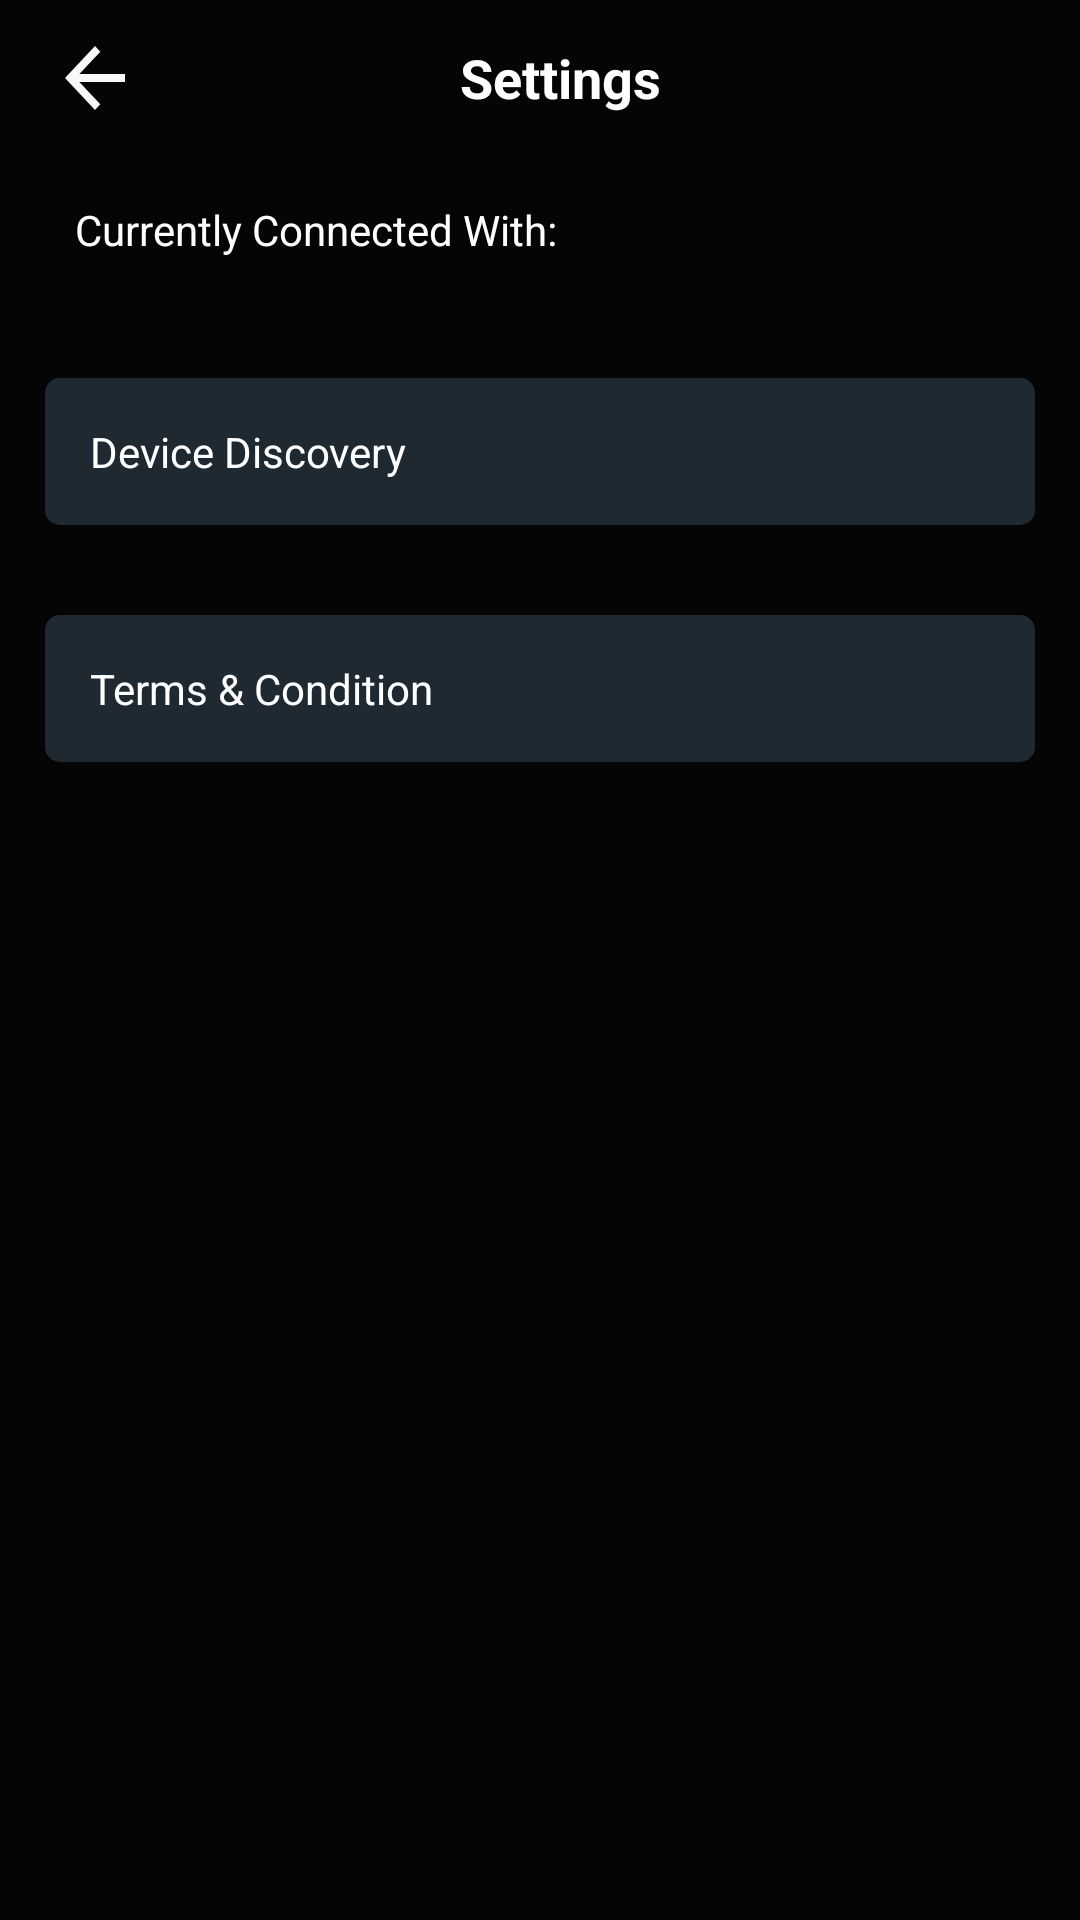

Named icons in this screenshot (1080 × 1920) and their centers, point (x, y):
arrow back: point (95, 78)
